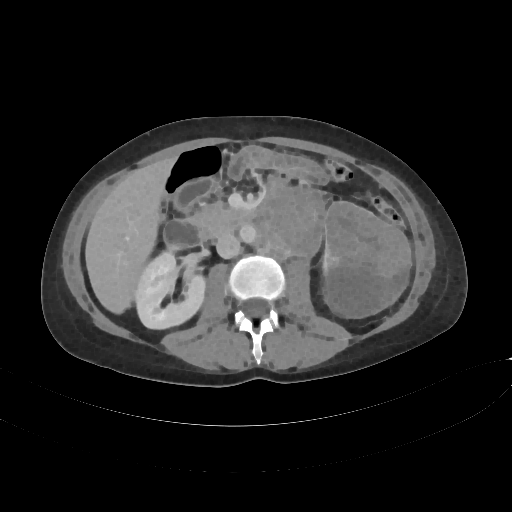Lesion: (325, 202, 414, 313)
